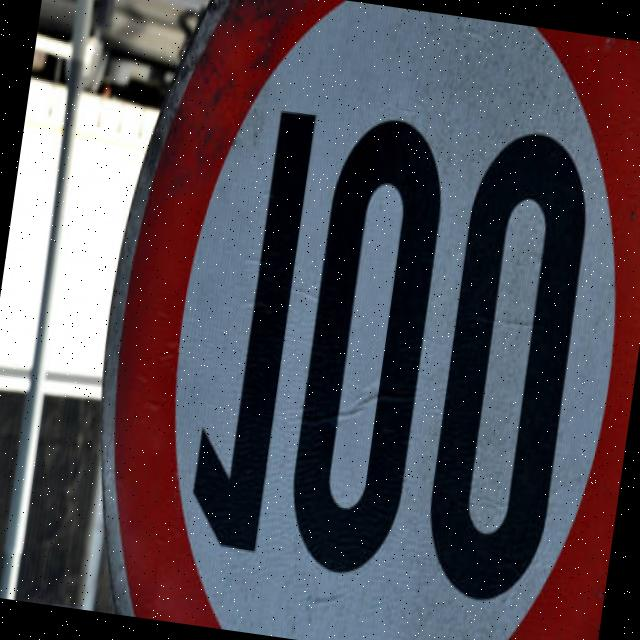speed_limit_100: (61, 0, 640, 640)
